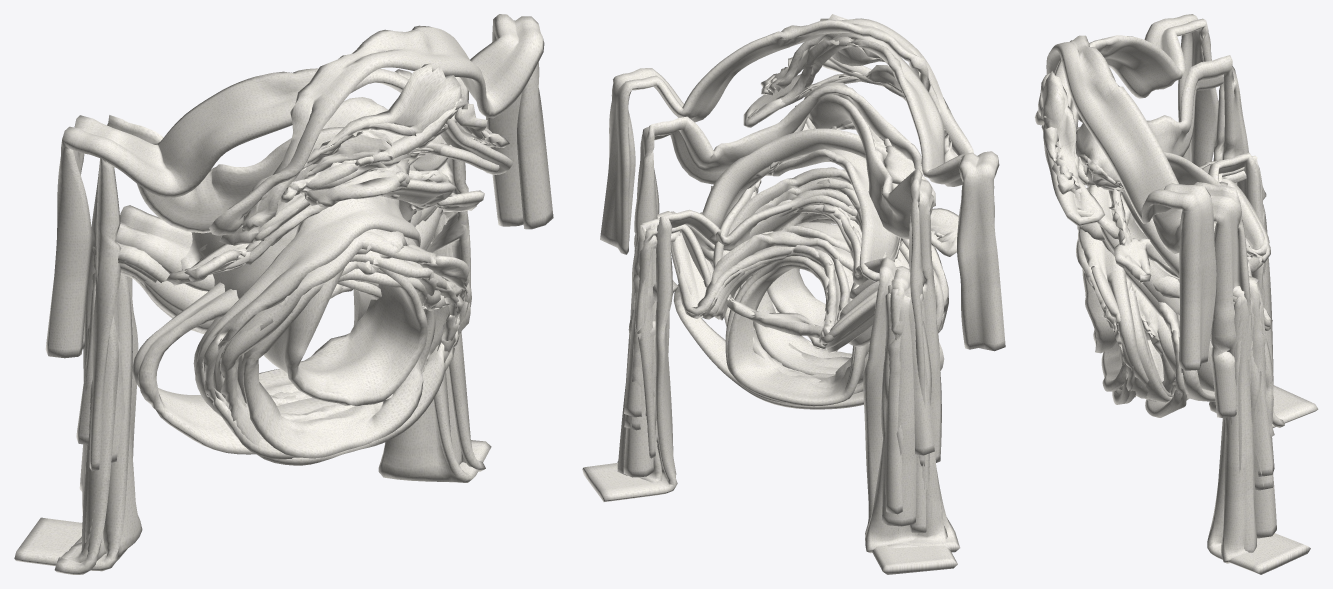
Rendered from towel_sim.glb.
3 renders of one model, left to right at view 1: azimuth 30°, elevation 25°; view 2: azimuth 150°, elevation 25°; view 3: azimuth 270°, elevation 25°, orthographic. The views are drawn at different scales.
Visible parts, largest first — view 1: towel_patient12, towel_patient14, towel_patient13, towel_patient05, towel_patient06, towel_patient02, towel_patient09, towel_patient08, towel_patient07, towel_patient04, towel_patient11, towel_patient03 (+1 smaller); view 2: towel_patient12, towel_patient13, towel_patient14, towel_patient08, towel_patient04, towel_patient09, towel_patient07, towel_patient10, towel_patient06, towel_patient11, towel_patient03, towel_patient05 (+2 smaller); view 3: towel_patient12, towel_patient13, towel_patient14, towel_patient05, towel_patient07, towel_patient08, towel_patient06, towel_patient04, towel_patient09, towel_patient10, towel_patient11, towel_patient02 (+1 smaller).
Boxes of the visible parts, bbox=[...] form: towel_patient12: bbox=[45, 14, 553, 358]; towel_patient14: bbox=[14, 181, 491, 571]; towel_patient13: bbox=[83, 77, 470, 471]; towel_patient05: bbox=[122, 196, 471, 459]; towel_patient06: bbox=[146, 261, 435, 458]; towel_patient02: bbox=[86, 219, 464, 469]; towel_patient09: bbox=[76, 162, 459, 454]; towel_patient08: bbox=[166, 164, 484, 298]; towel_patient07: bbox=[54, 175, 485, 574]; towel_patient04: bbox=[57, 165, 461, 562]; towel_patient11: bbox=[79, 217, 451, 491]; towel_patient03: bbox=[82, 217, 453, 515]; towel_patient12: bbox=[600, 14, 1005, 351]; towel_patient13: bbox=[630, 82, 941, 466]; towel_patient14: bbox=[582, 189, 957, 574]; towel_patient08: bbox=[700, 128, 958, 338]; towel_patient04: bbox=[617, 211, 950, 549]; towel_patient09: bbox=[628, 211, 944, 455]; towel_patient07: bbox=[617, 231, 960, 552]; towel_patient10: bbox=[636, 222, 926, 532]; towel_patient06: bbox=[623, 212, 932, 553]; towel_patient11: bbox=[632, 195, 931, 514]; towel_patient03: bbox=[650, 202, 916, 526]; towel_patient05: bbox=[624, 167, 948, 489]; towel_patient12: bbox=[1034, 14, 1218, 370]; towel_patient13: bbox=[1076, 55, 1251, 417]; towel_patient14: bbox=[1082, 152, 1318, 574]; towel_patient05: bbox=[1078, 187, 1274, 476]; towel_patient07: bbox=[1214, 170, 1274, 563]; towel_patient08: bbox=[1088, 151, 1227, 283]; towel_patient06: bbox=[1101, 279, 1284, 538]; towel_patient04: bbox=[1197, 161, 1272, 552]; towel_patient09: bbox=[1145, 161, 1270, 423]; towel_patient10: bbox=[1131, 167, 1271, 506]; towel_patient11: bbox=[1077, 158, 1274, 437]; towel_patient02: bbox=[1076, 238, 1273, 490].
Bounding box in the file's own units: 0.3893 × 0.4013 × 0.2342.
1 material, 1 textured.
